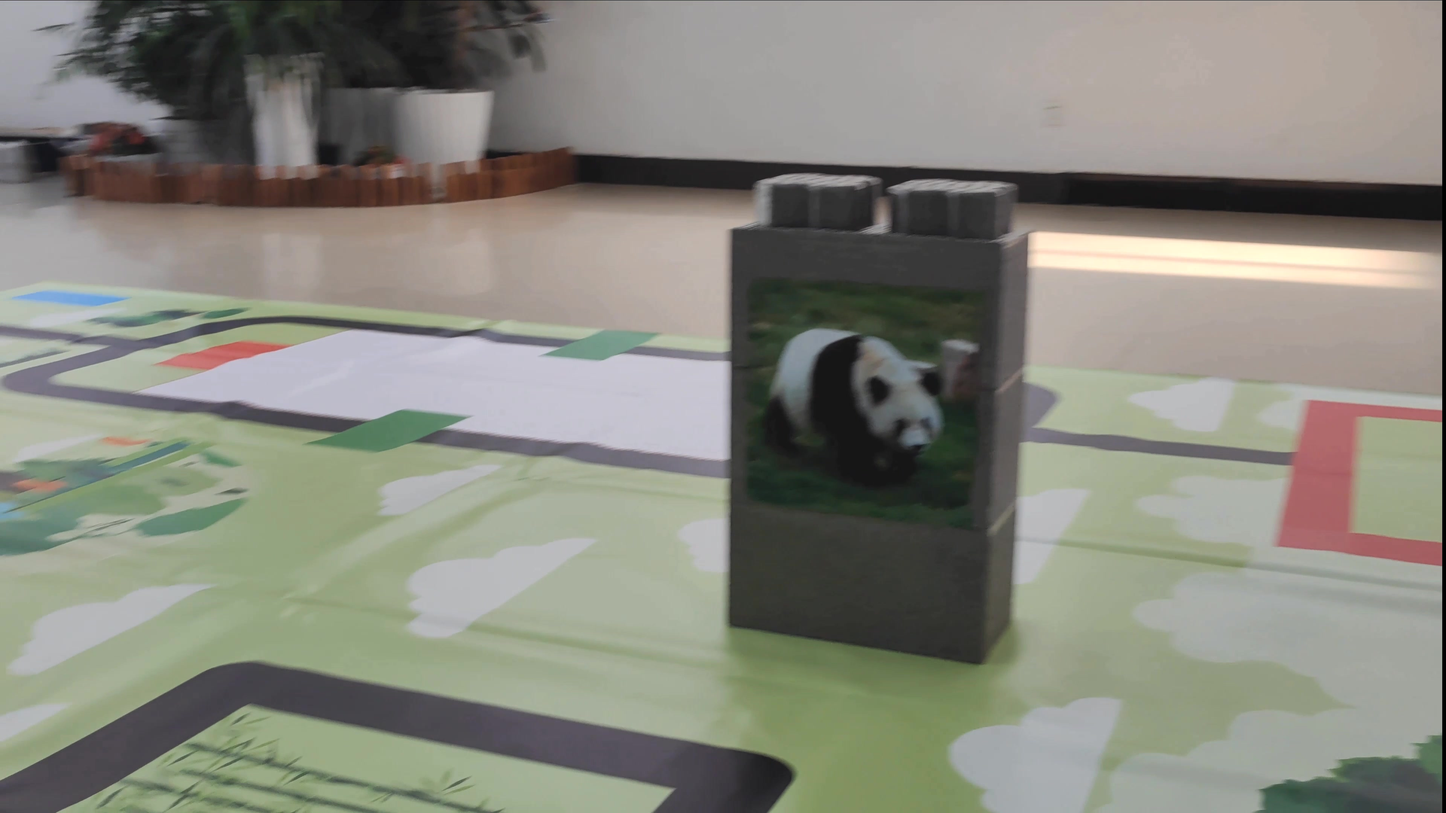panda: (747, 325, 968, 510)
